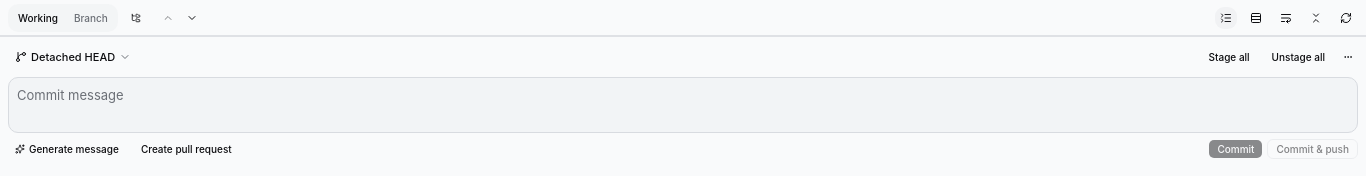
Test: drafts the message from the staged diff with the task's model
The width and height of the screenshot is (1366, 176).
What coordinates should you click on to do the following:
click the button "Generate message"
I would click on:
 (68, 149)
Its box is x1=8 y1=139 x2=128 y2=159.
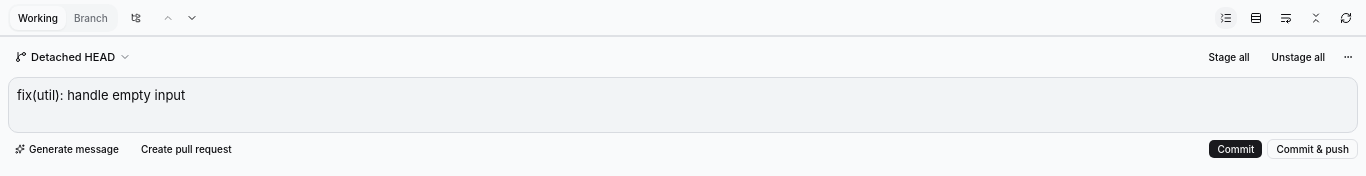
Check: the text box named "Commit message" holds "fix(util): handle empty input", box x1=8 y1=77 x2=1358 y2=133
